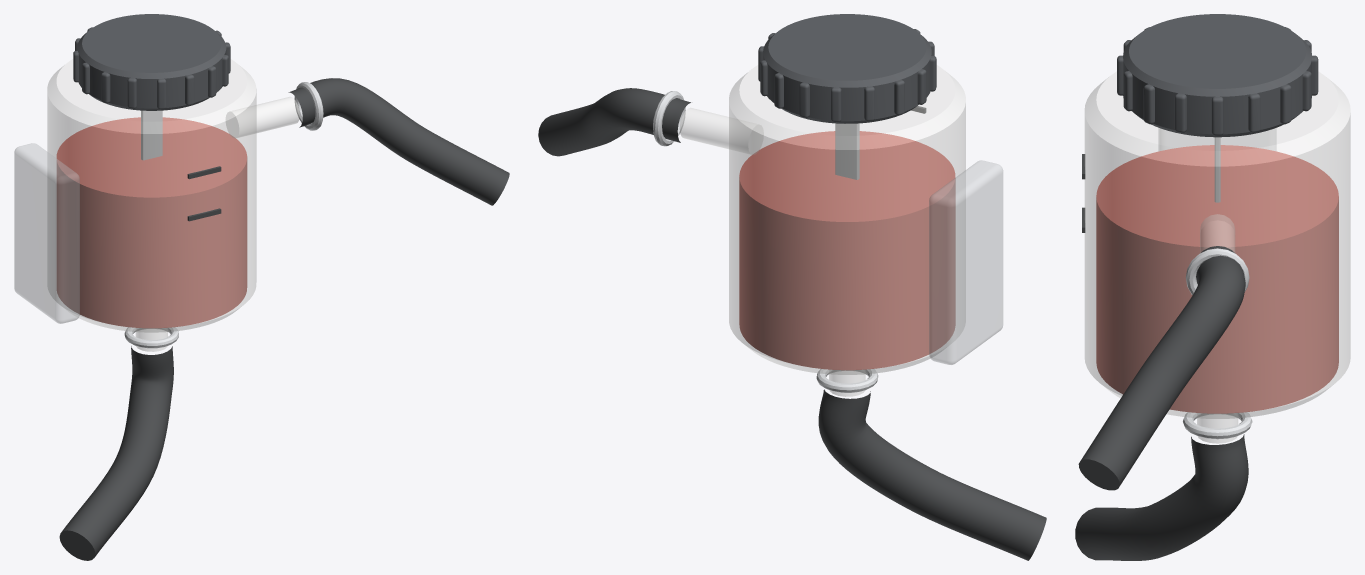
The model's file is power_steering_reservoir.glb.
3 views of the same model, side by side, from view 1: azimuth 30°, elevation 25°; view 2: azimuth 150°, elevation 25°; view 3: azimuth 270°, elevation 25° (orthographic). The views are drawn at different scales.
Visible parts, largest first — view 1: tank, fluid, hoses, cap; view 2: tank, fluid, hoses, cap; view 3: tank, fluid, hoses, cap.
Part boxes in pixels (bbox=[...]): tank: bbox=[14, 59, 299, 351]; fluid: bbox=[56, 117, 247, 328]; hoses: bbox=[59, 78, 509, 560]; cap: bbox=[73, 14, 230, 160]; tank: bbox=[680, 65, 1002, 396]; fluid: bbox=[739, 131, 955, 370]; hoses: bbox=[538, 88, 1046, 560]; cap: bbox=[758, 14, 936, 179]; tank: bbox=[1085, 71, 1350, 443]; fluid: bbox=[1096, 145, 1338, 413]; hoses: bbox=[1075, 246, 1252, 560]; cap: bbox=[1117, 14, 1318, 202].
Bounding box in the file's own units: 221 × 216 × 93.14.
